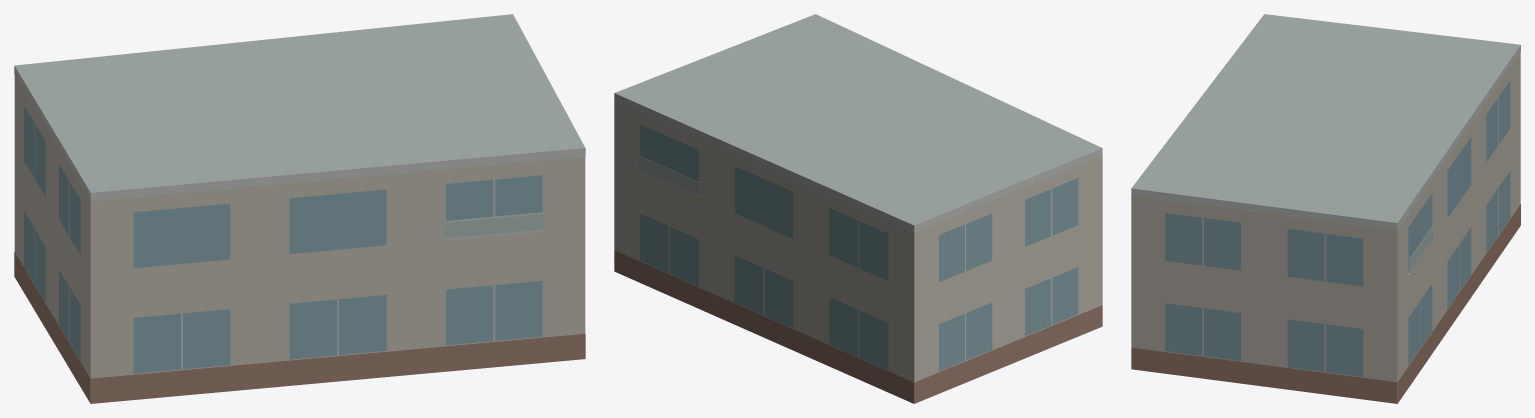
Rendered from survey-upis-32869320.glb.
3 renders of one model, left to right at view 1: azimuth 30°, elevation 25°; view 2: azimuth 150°, elevation 25°; view 3: azimuth 270°, elevation 25°, orthographic. The views are drawn at different scales.
Parts seen in each view (by area): view 1: survey-upis-32869320.tmp; view 2: survey-upis-32869320.tmp; view 3: survey-upis-32869320.tmp.
Boxes of the visible parts, x1,y1,x2,y2 form: survey-upis-32869320.tmp: (14,14,585,403); survey-upis-32869320.tmp: (614,14,1102,403); survey-upis-32869320.tmp: (1131,14,1520,403).
Bounding box in the file's own units: 15.14 × 6.1 × 11.92.
